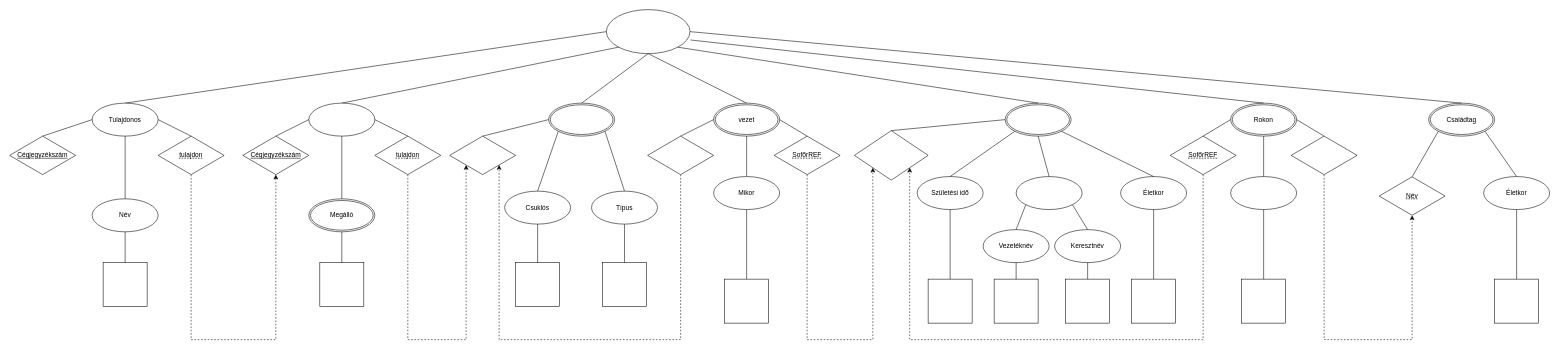
Image size: 1559x354. Some labels were removed from this diagram. The shapes that lost their labels are listed below. From the top down, each one's centre as x and y in pixels, then its label:
At point 648,31: "WYQ5JK_MVK".
At point 341,119: "MVK".
At point 581,119: "Busz".
At point 1038,119: "Sofőr".
At point 482,155: "Sorozatszám".
At point 680,155: "BuszREF".
At point 891,155: "Személyiigazolvány-szám".
At point 1324,155: "CsaládtagREF".
At point 1049,193: "Teljes név".
At point 1263,193: "Rokoni kapcsolat".
